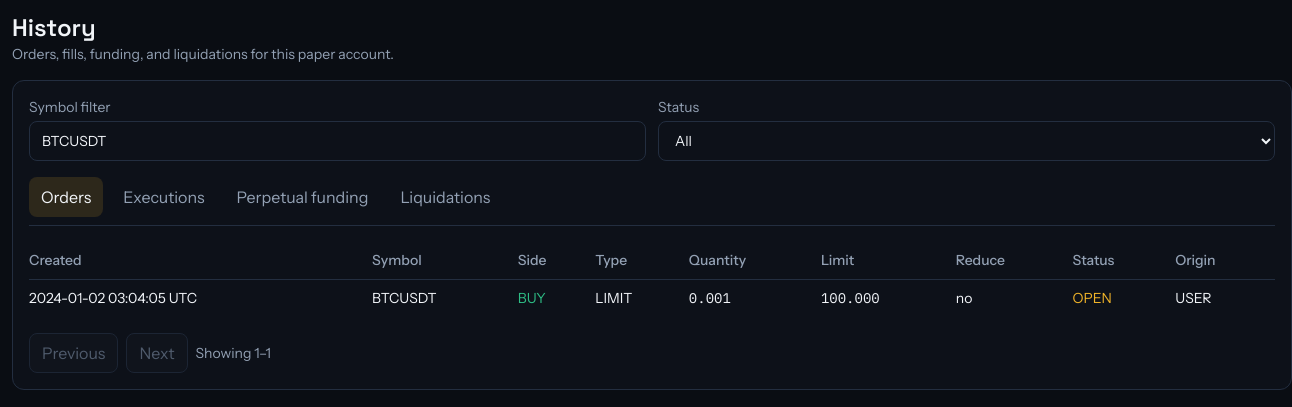
Test: HistoryPage › queries with a canonical symbol and History execution order ids
Expected: the text "BTCUSDT" is shown, [372, 289, 436, 307]
Click the tab "Executions" at coordinates (164, 197), box [111, 177, 217, 217]
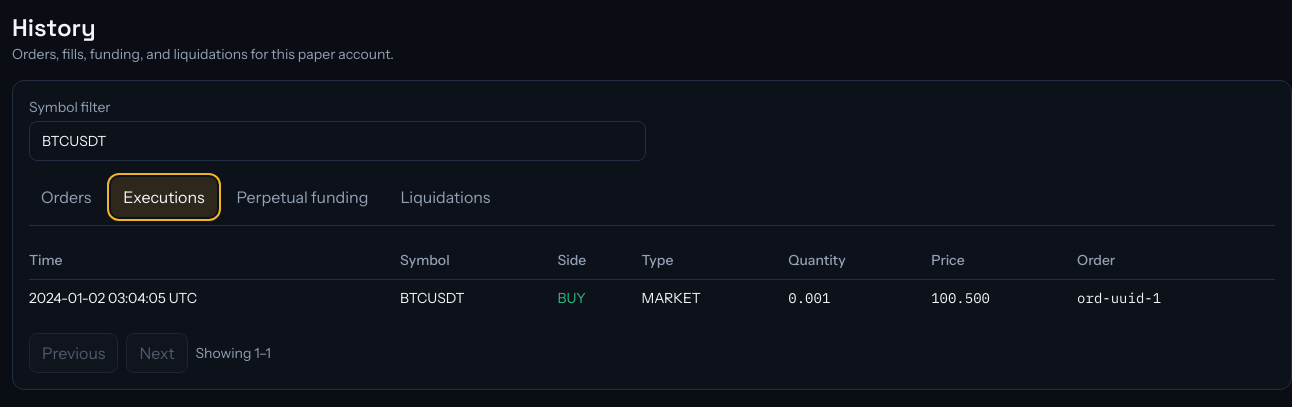
Expected: the column heading "Order" is shown, [1077, 242, 1275, 280]
Expected: the text "ord-uuid-1" is shown, [1077, 289, 1161, 307]
